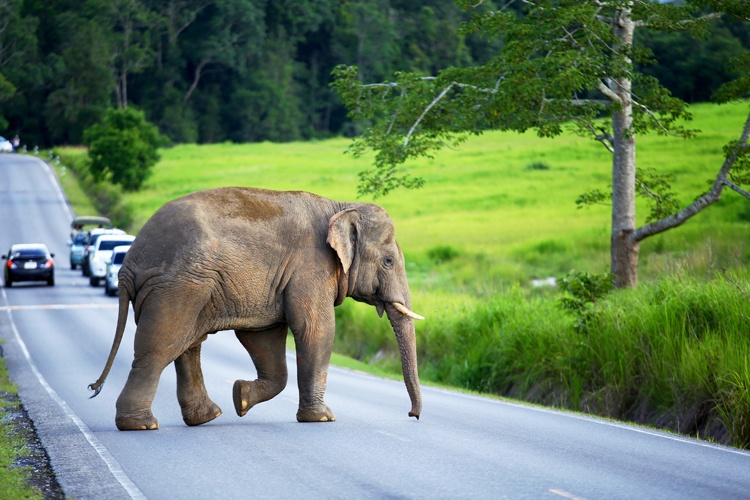elephant: (93, 183, 427, 431)
